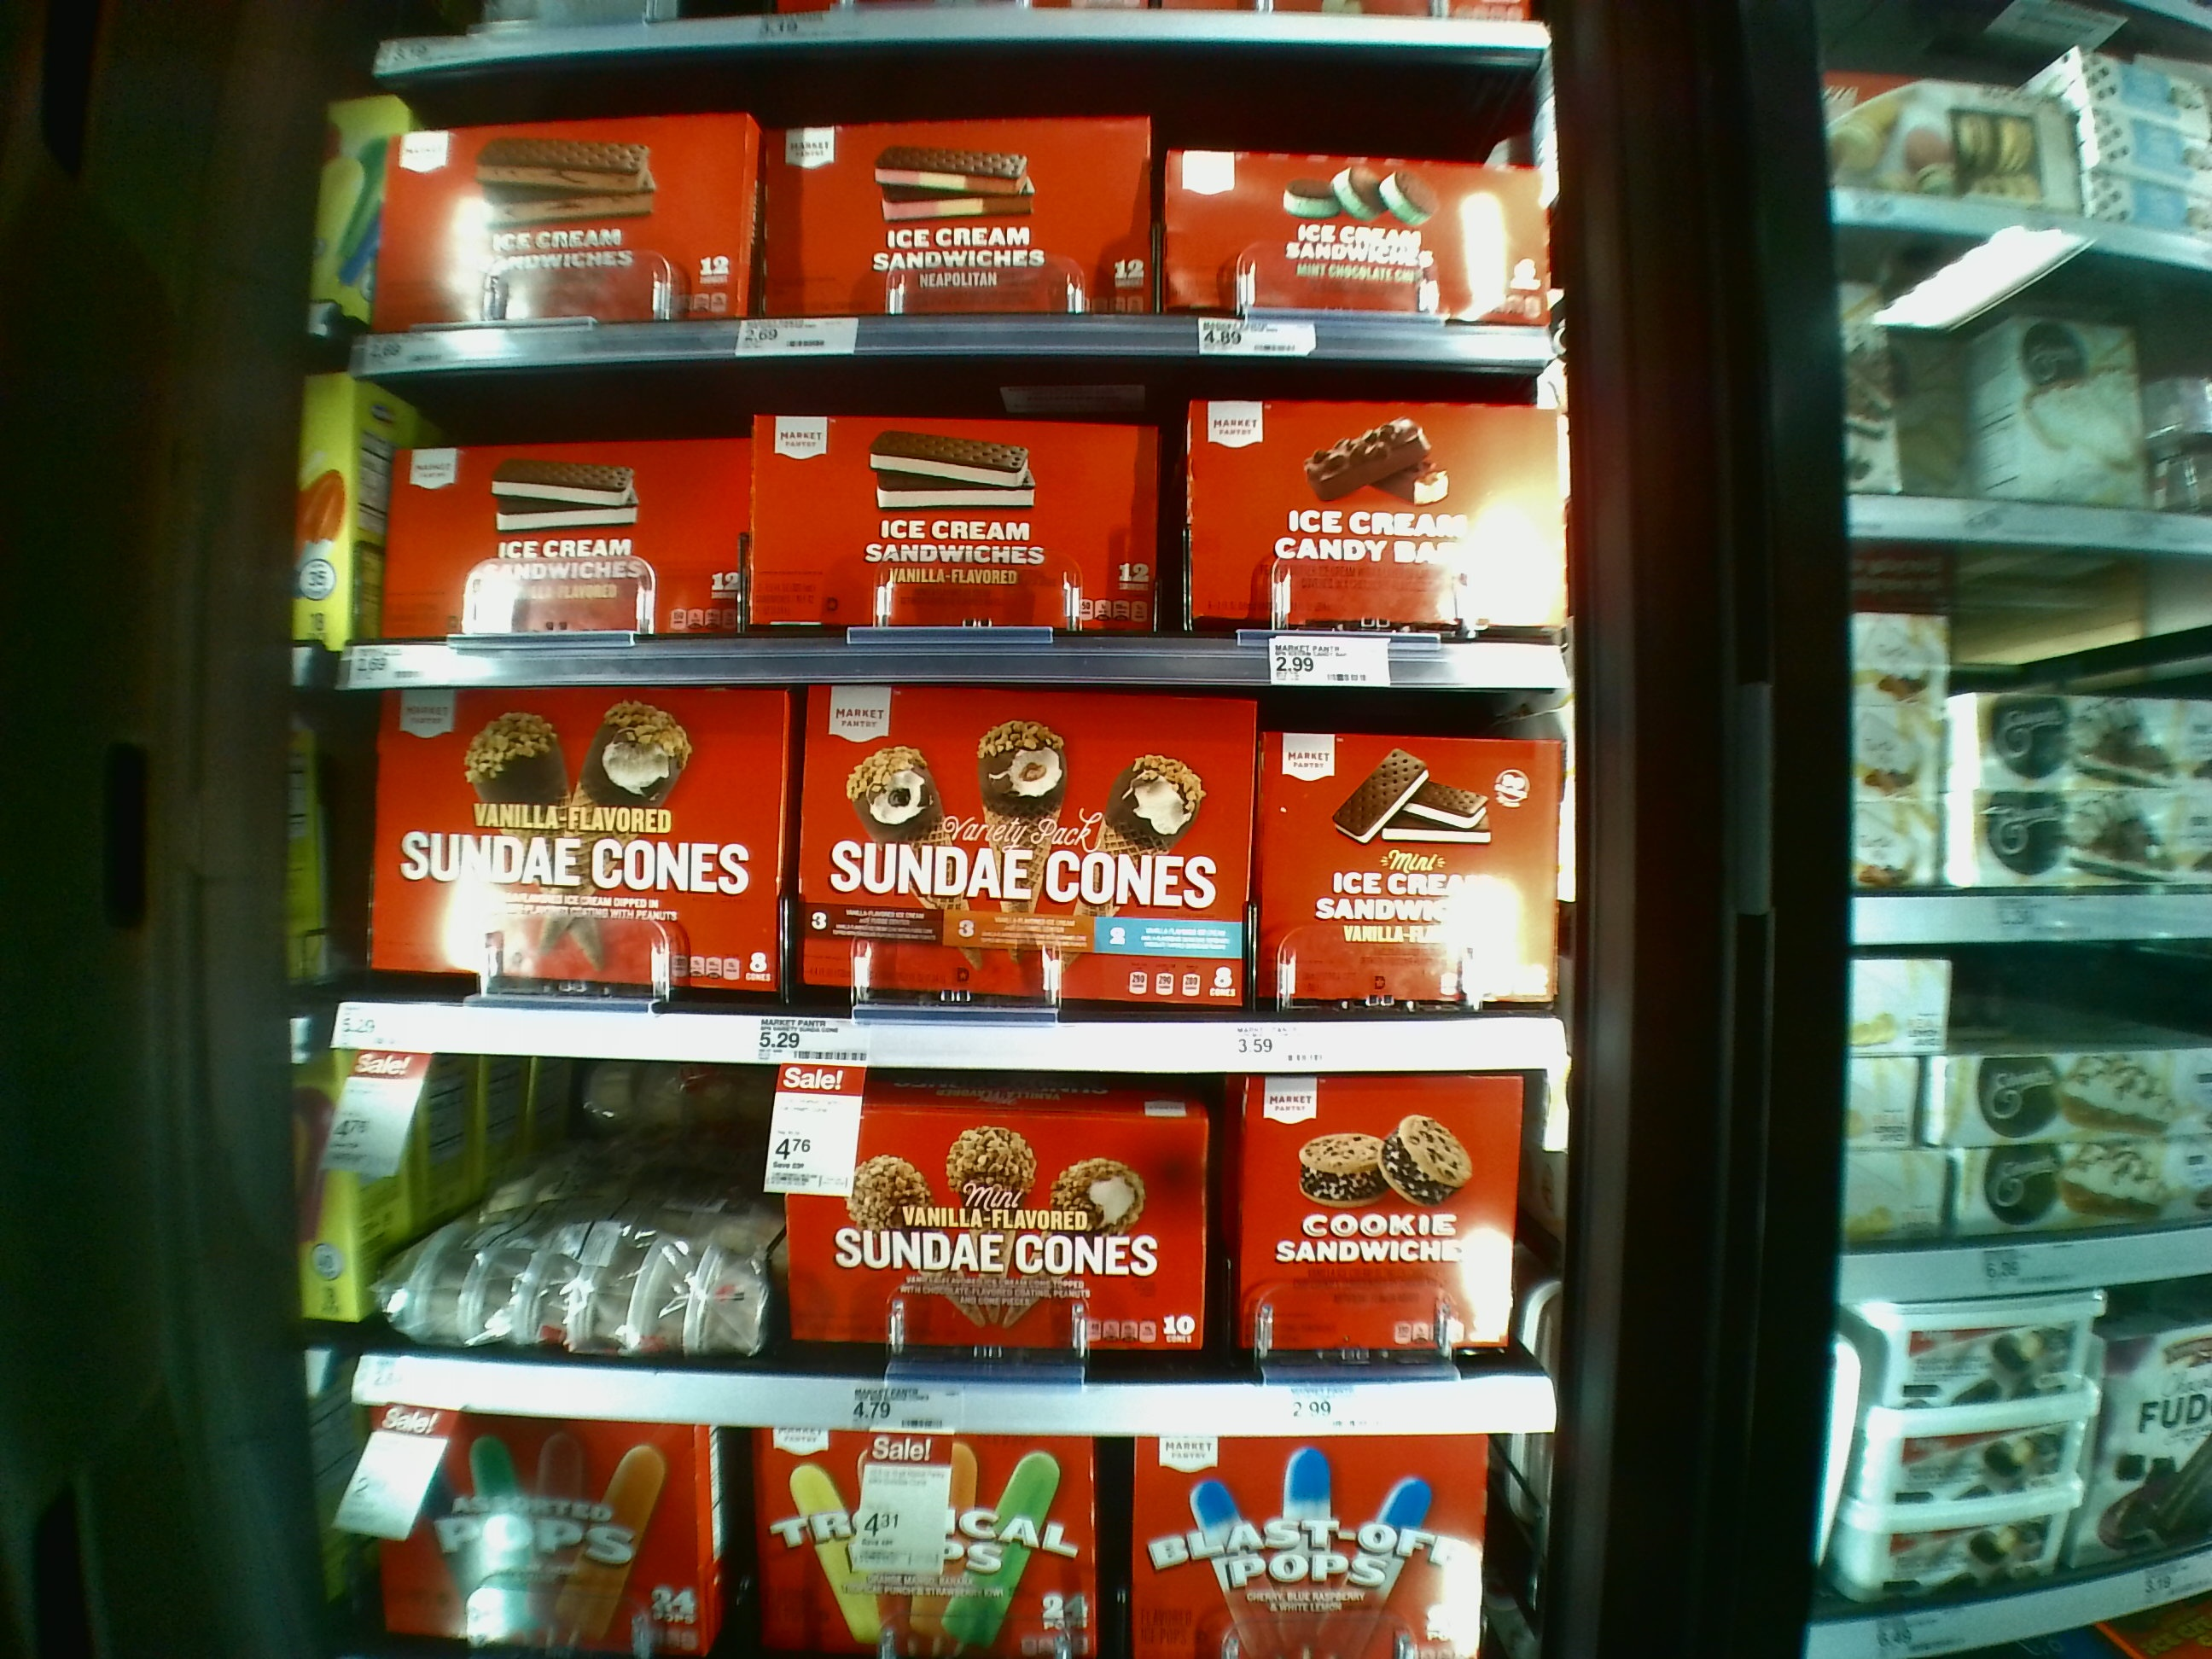shelf: (355, 690, 1566, 1075), (364, 1079, 1547, 1429), (355, 378, 1566, 692), (362, 71, 1541, 357)
